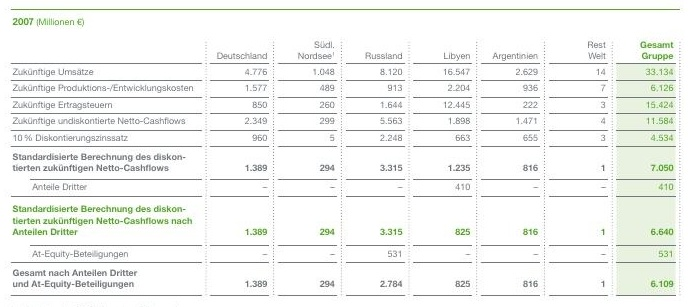table: (0, 0, 690, 307)
